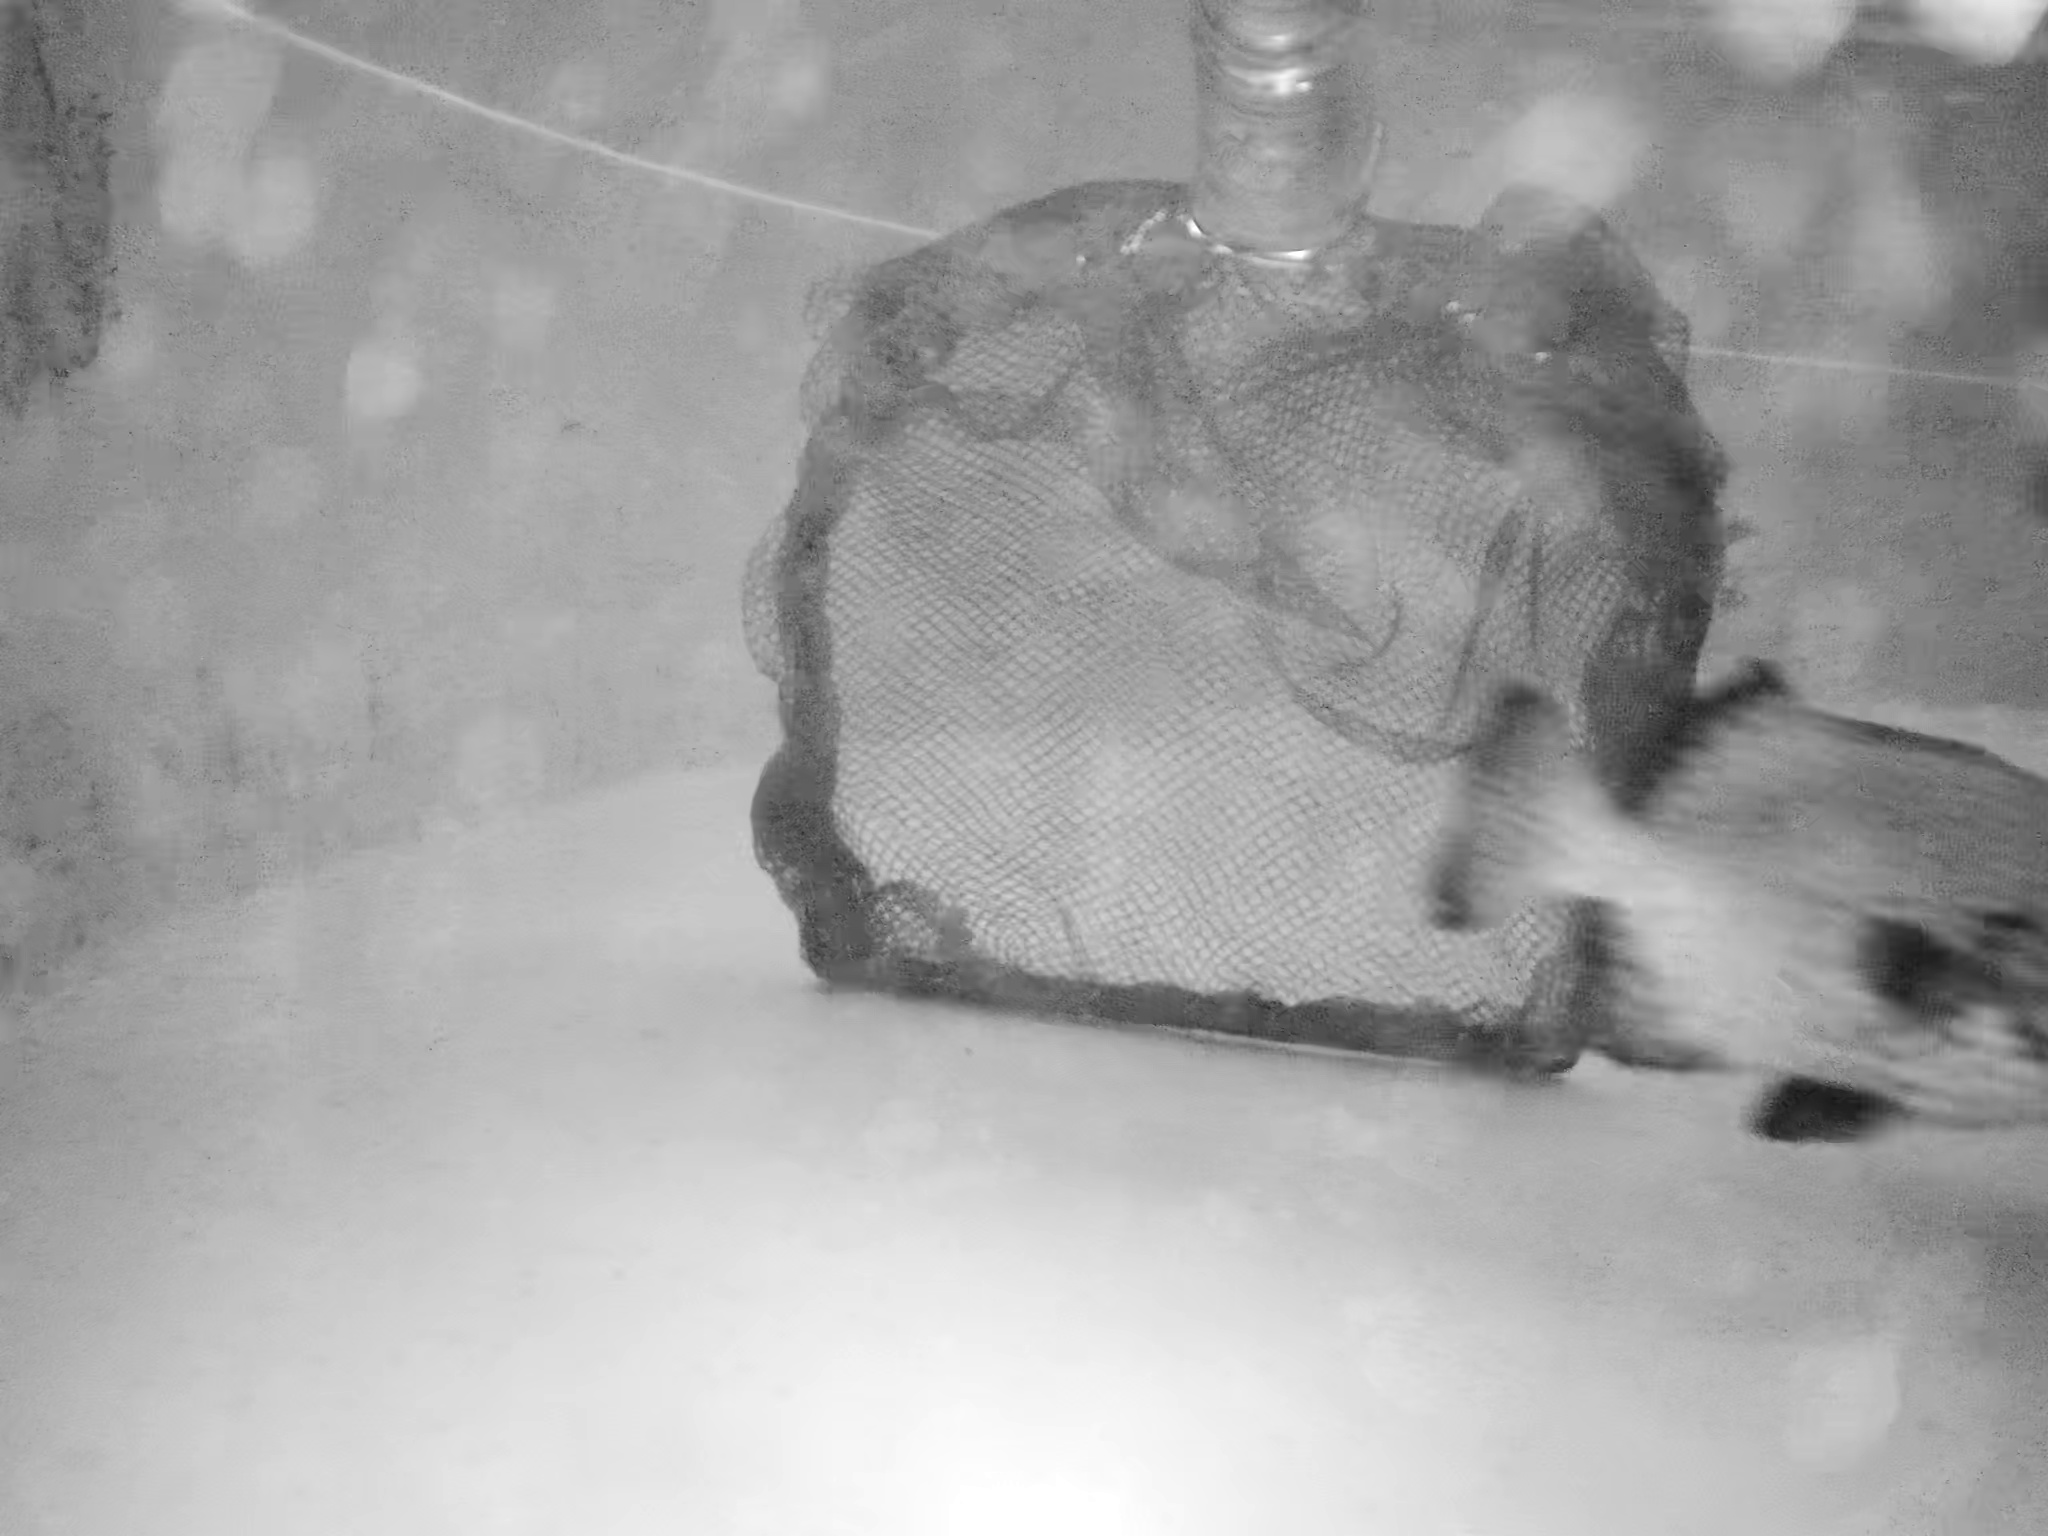fish: (1467, 653, 2048, 1128), (1445, 694, 1601, 915)
